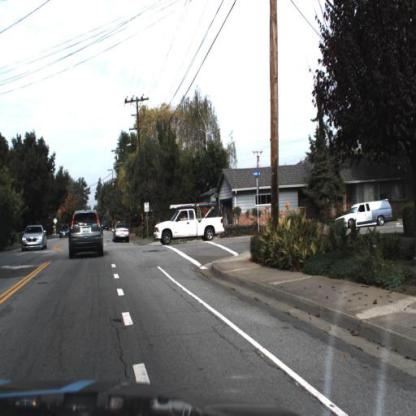car: (152, 206, 226, 245), (67, 211, 109, 260), (337, 200, 393, 230), (21, 223, 50, 254), (111, 222, 133, 247), (58, 217, 72, 243)
